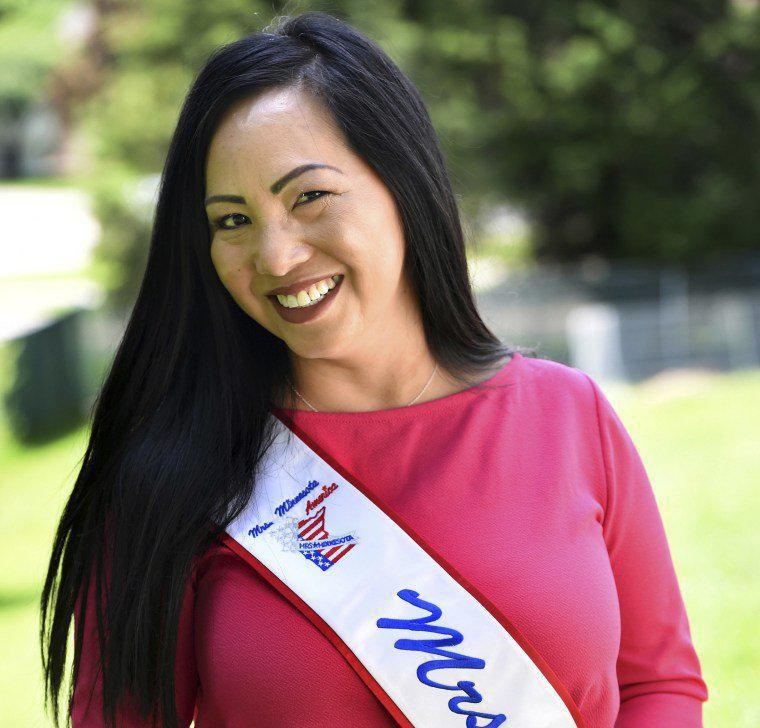Sober: (197, 94, 414, 361)
